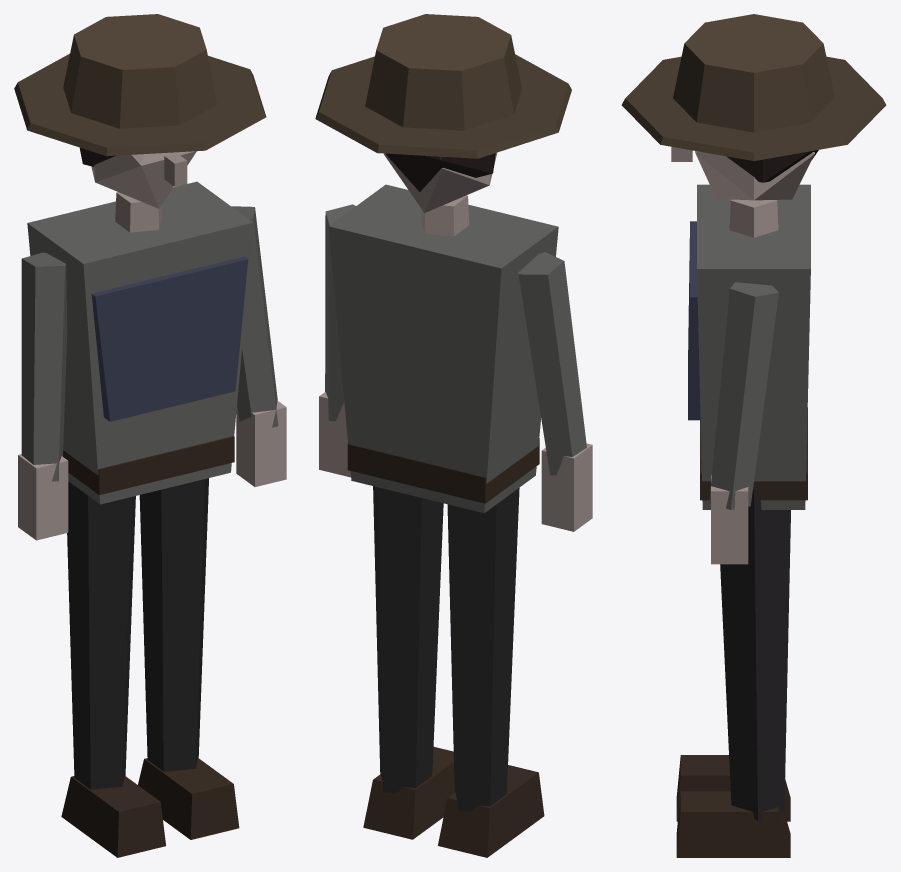
The model's file is shadow_faekin.glb.
The picture shows the model from 3 angles, left to right: view 1: azimuth 30°, elevation 25°; view 2: azimuth 150°, elevation 25°; view 3: azimuth 270°, elevation 25°; orthographic projection.
Parts seen in each view (by area): view 1: shadow_faekin; view 2: shadow_faekin; view 3: shadow_faekin.
Part boxes in pixels (bbox=[...]): shadow_faekin: bbox=[14, 14, 286, 857]; shadow_faekin: bbox=[315, 14, 592, 857]; shadow_faekin: bbox=[621, 14, 886, 857].
Bounding box in the file's own units: 0.6483 × 1.89 × 0.5794.
